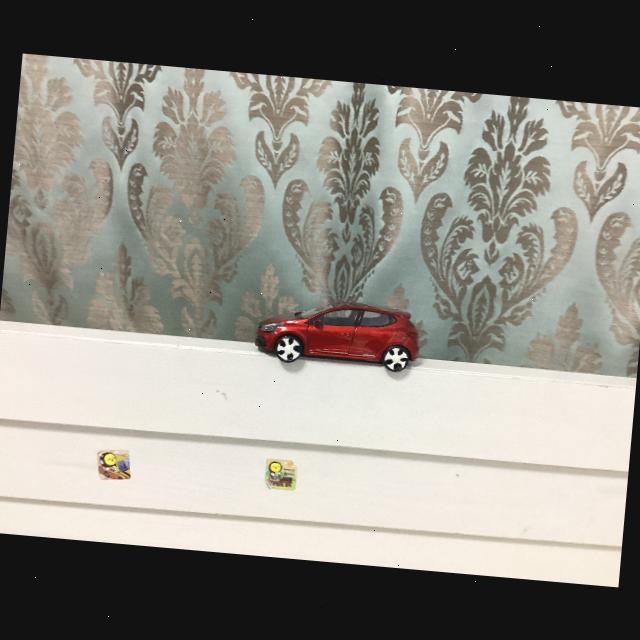Yanlis_Jant: (275, 335, 302, 362), (382, 346, 410, 372)
